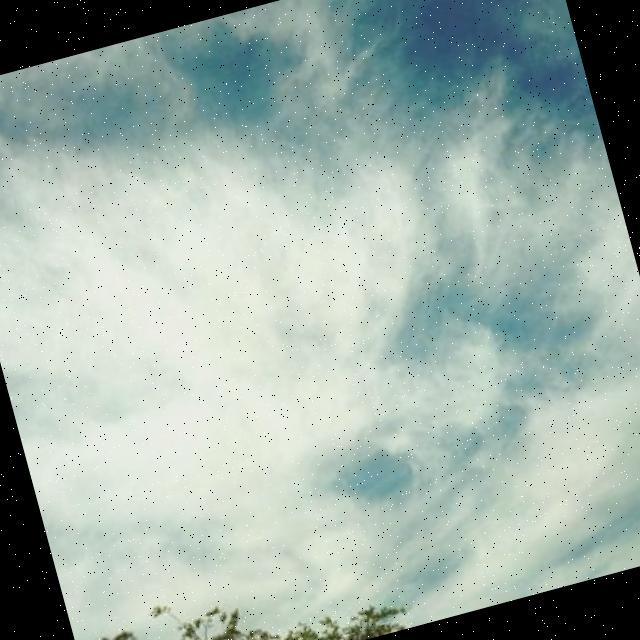Cs: (1, 1, 610, 569)
